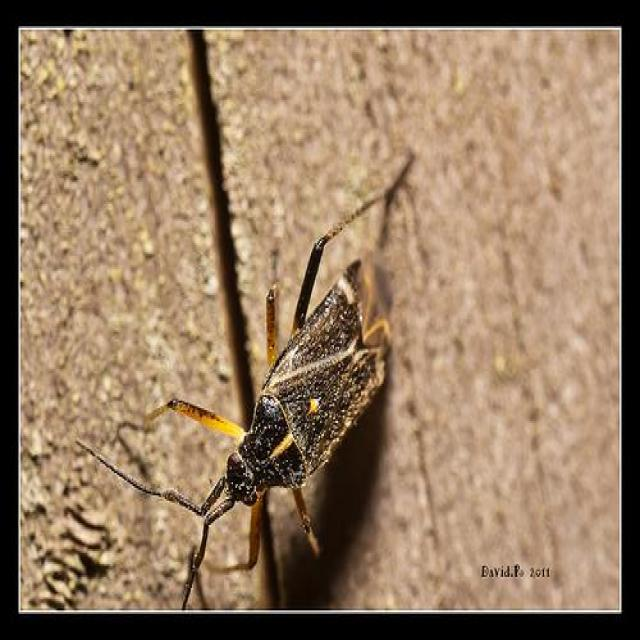Miridae-Adult-: (89, 153, 421, 602)
